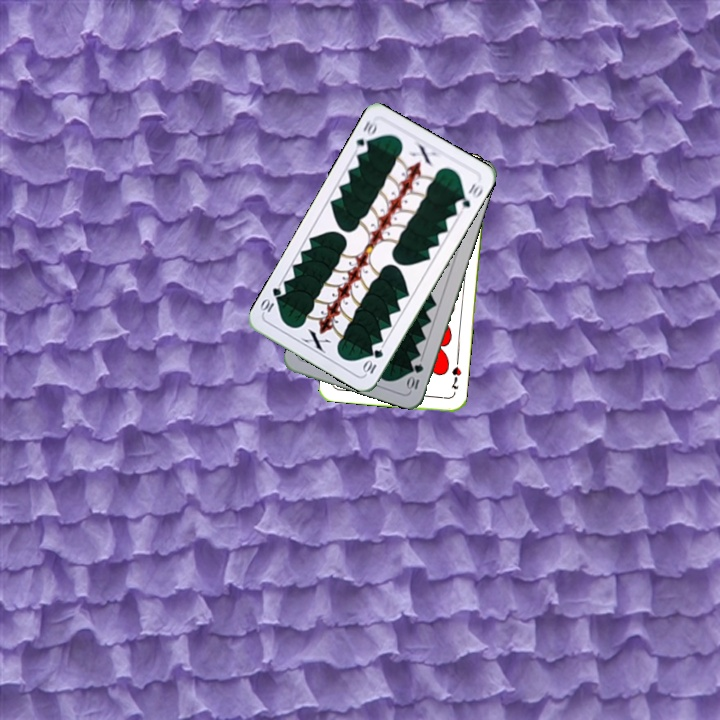G10: (352, 115, 380, 157), (359, 345, 386, 378), (404, 360, 426, 394)
H7: (447, 356, 464, 392)
